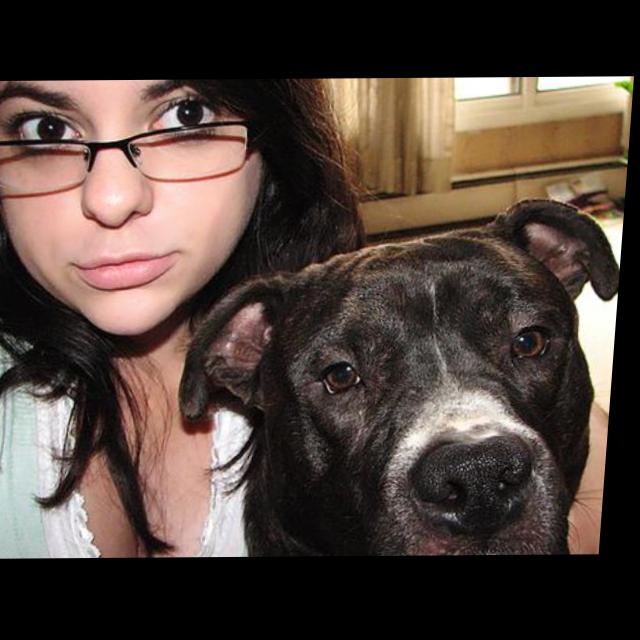amstaff: (176, 198, 629, 559)
face: (1, 81, 274, 338)
person: (1, 78, 636, 560)
